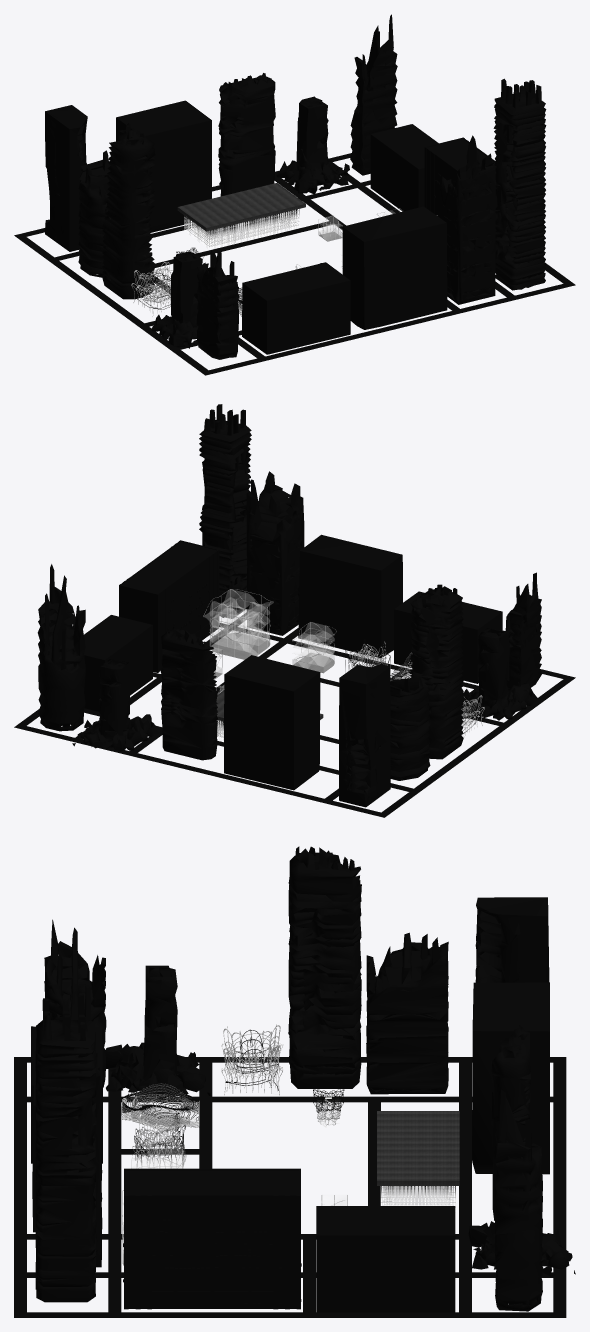
File: BLACKCITY-v5.glb
The picture shows the model from 3 angles, top to bottom: view 1: azimuth 30°, elevation 25°; view 2: azimuth 150°, elevation 25°; view 3: azimuth 270°, elevation 25°; orthographic projection. The views are drawn at different scales.
Visible parts, largest first — view 1: Merged Objects 5; view 2: Merged Objects 5; view 3: Merged Objects 5.
Part boxes in pixels (<box>): Merged Objects 5: <box>14,14,575,375</box>; Merged Objects 5: <box>14,404,575,817</box>; Merged Objects 5: <box>14,846,575,1317</box>.
Size of the model in its own units: 114 by 59.63 by 104.
Materials: 16 (4 with a texture image).
